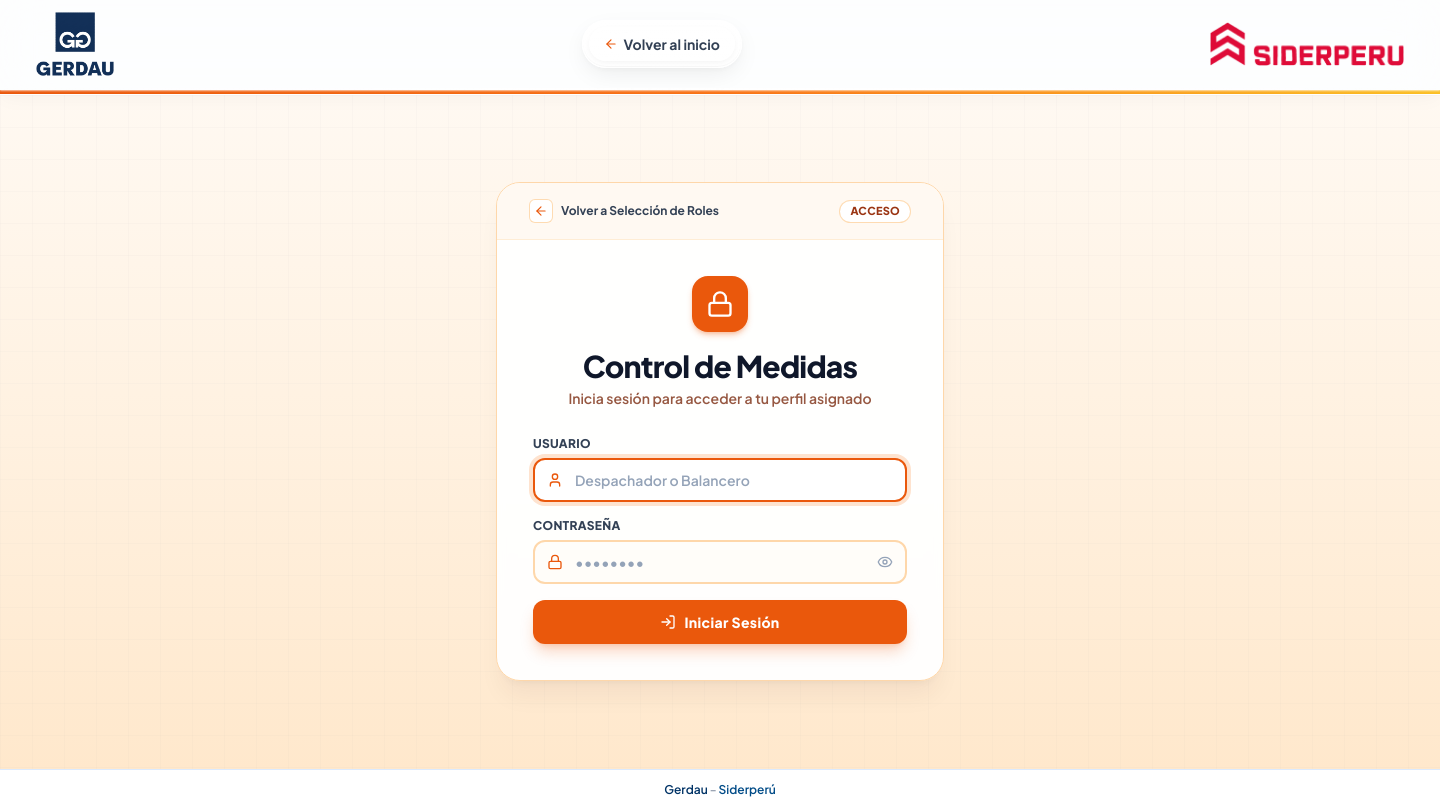
Scenario: Stock por Balanza application › rejects invalid credentials with an error message
Type "Despachador" into the field labelled "Usuario". click: [720, 480]
box: 533,458 -> 907,502
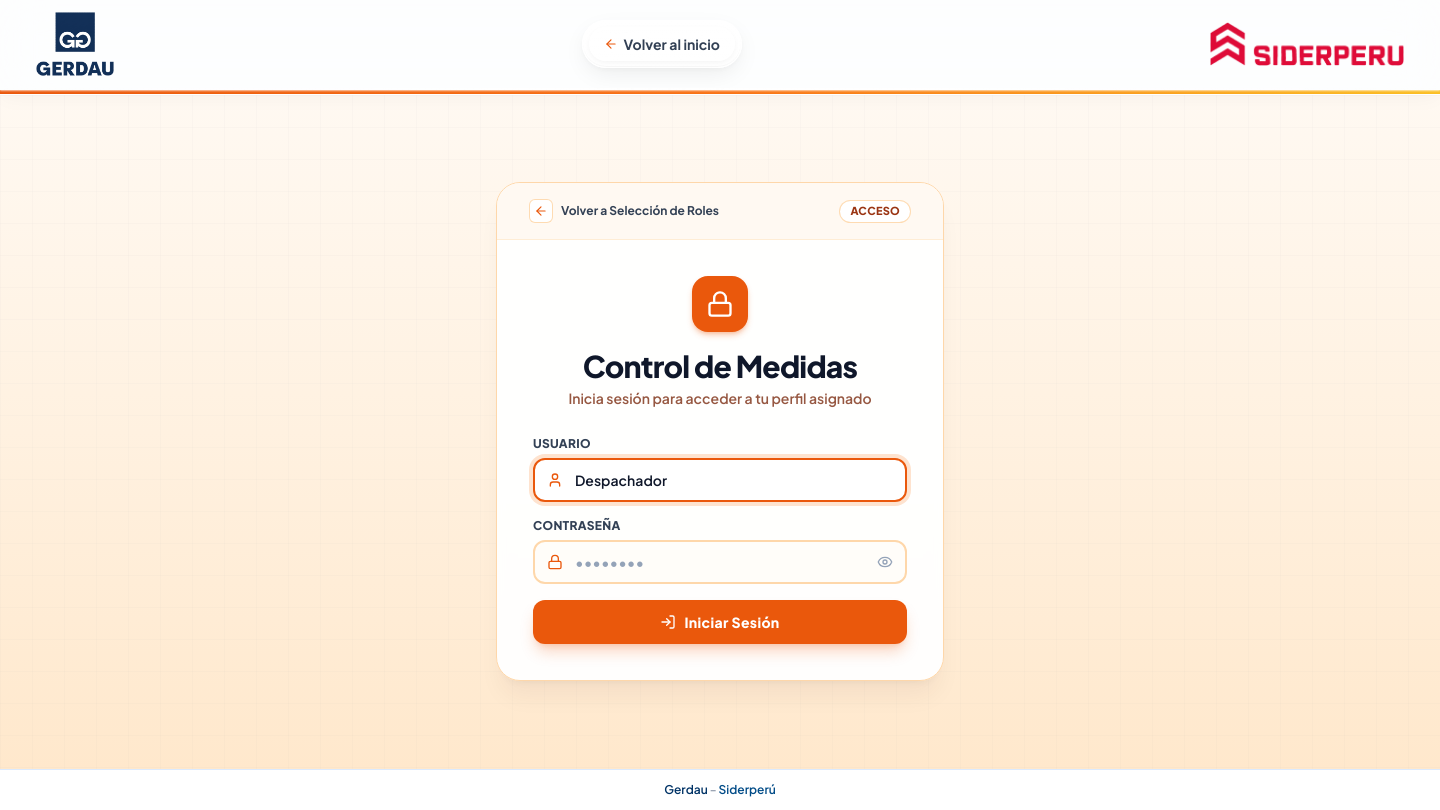
Type "WrongPass" into the password field labelled "Contraseña". click: [720, 562]
box: 533,540 -> 907,584
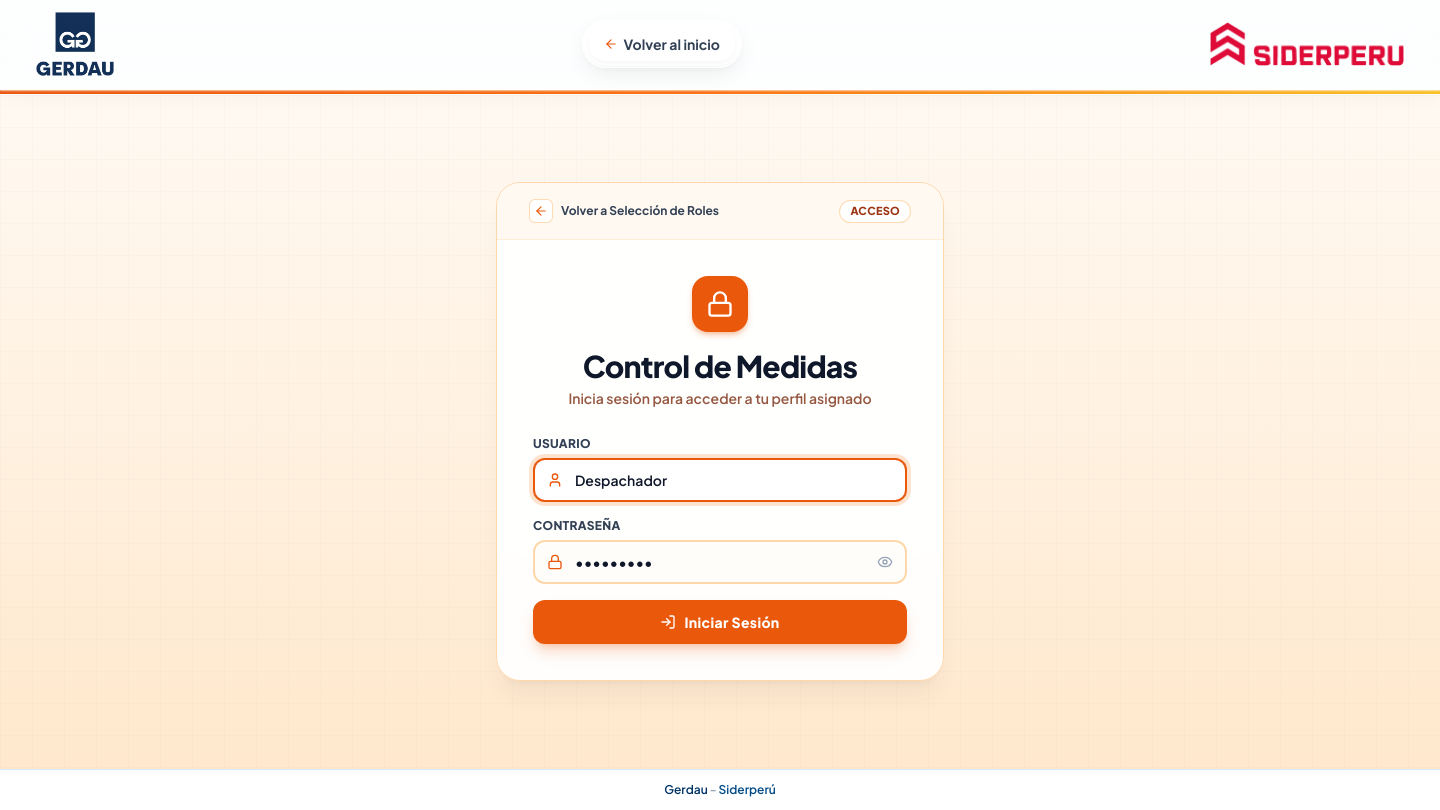
Click the button "Iniciar Sesión". click: [720, 622]
box: 533,600 -> 907,644
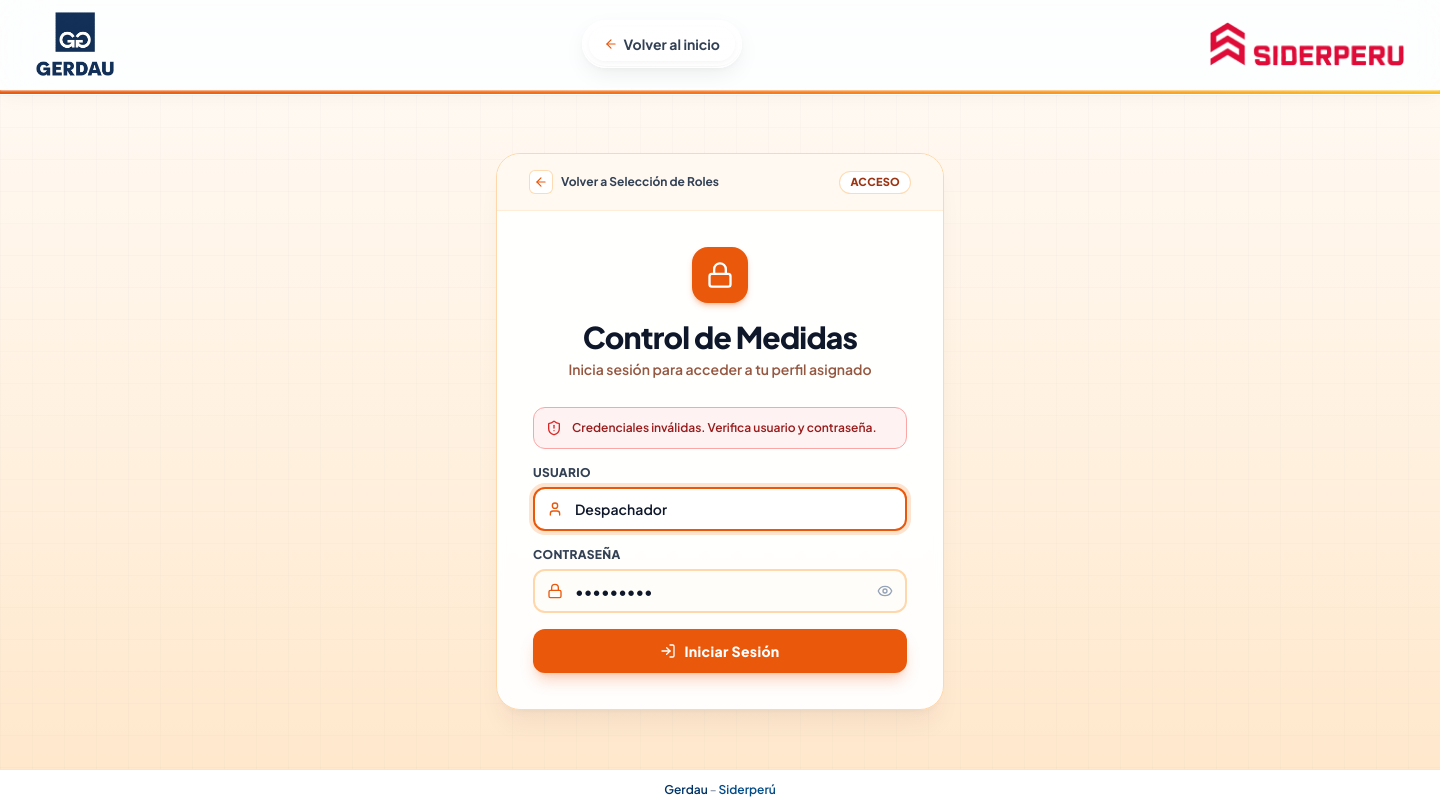
Now the message shows "Credenciales inválidas", box 572,420 -> 877,435
